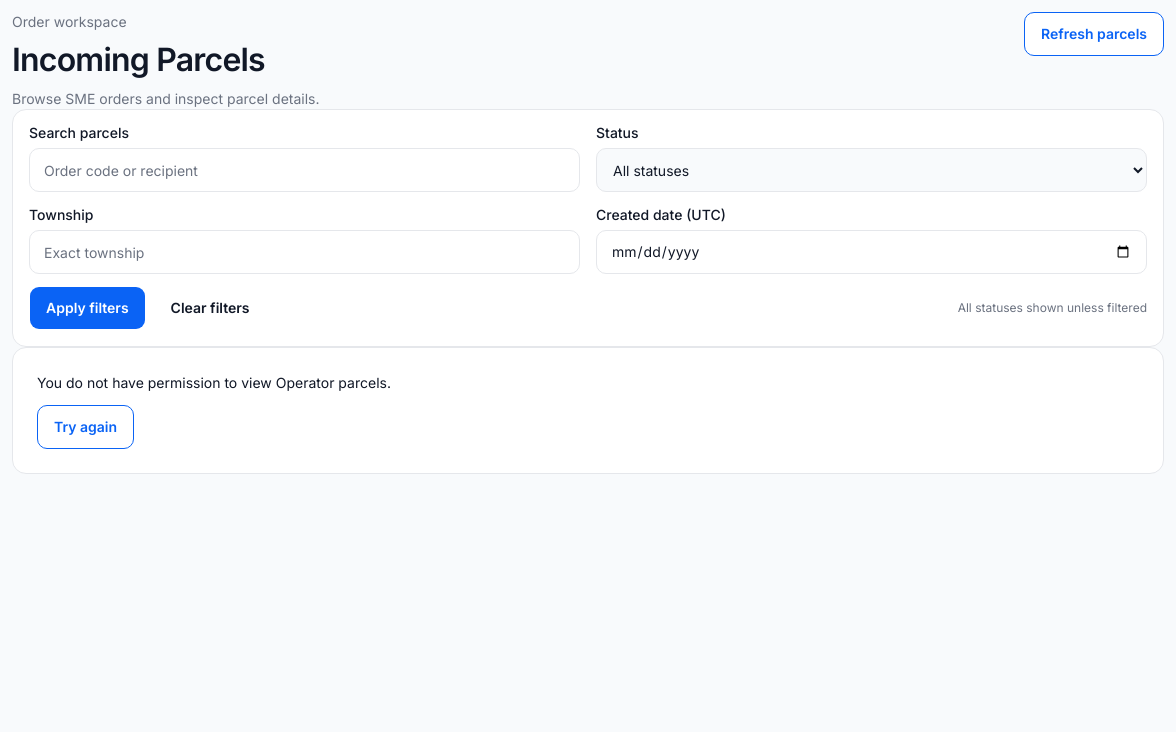
Scenario: shows safe 403 feedback and allows retry
Expected: the message shows "permission", [37,374,391,391]
What coordinates should you click on to do the following:
click the button "Try again"
I would click on:
 (86, 427)
Its box is [37,405,134,449].
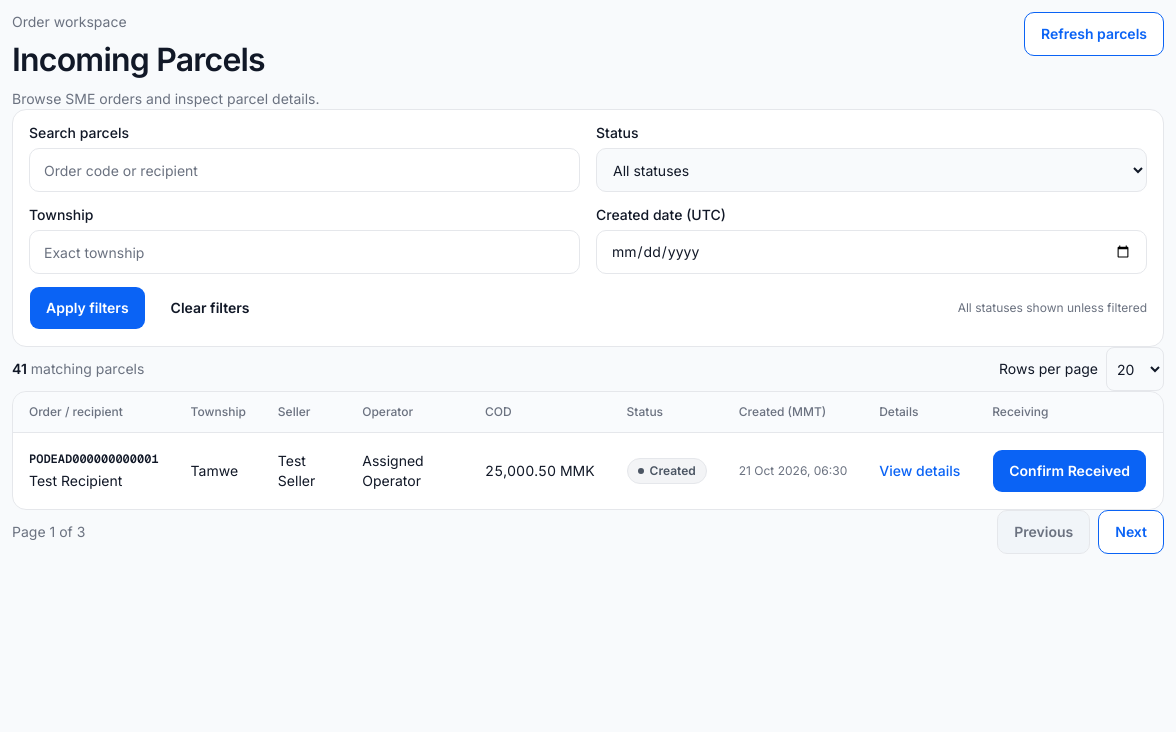
Result: the text "PODEAD000000000001" is shown at [29,451,159,467]
